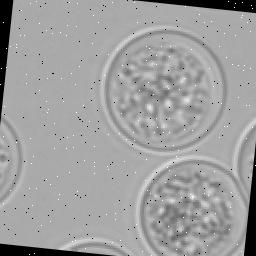picoshell: (99, 26, 223, 154), (135, 156, 247, 256), (232, 115, 256, 193), (0, 117, 21, 203), (59, 236, 133, 255)
